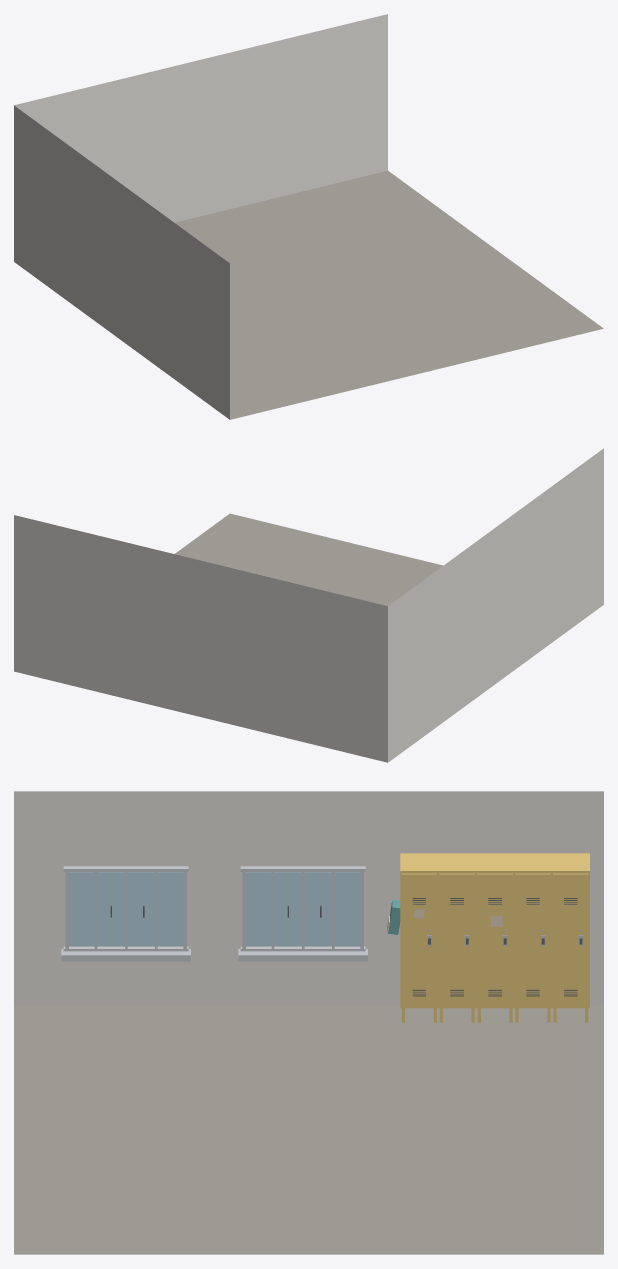
Rendered from RoomModel.glb.
3 renders of one model, top to bottom at view 1: azimuth 30°, elevation 25°; view 2: azimuth 150°, elevation 25°; view 3: azimuth 270°, elevation 25°, orthographic. The views are drawn at different scales.
Parts seen in each view (by area): view 1: room; view 2: room; view 3: room, Yellow_Locker_Set, Handle_Right, Handle_Right.001.
Boxes of the visible parts, left/top/right/bottom form: room: left=14, top=14, right=603, bottom=419; room: left=14, top=448, right=603, bottom=762; room: left=14, top=791, right=603, bottom=1254; Yellow_Locker_Set: left=387, top=853, right=589, bottom=1022; Handle_Right: left=61, top=866, right=190, bottom=961; Handle_Right.001: left=238, top=866, right=367, bottom=961.
Size of the model in its own units: 10 by 4 by 10.
